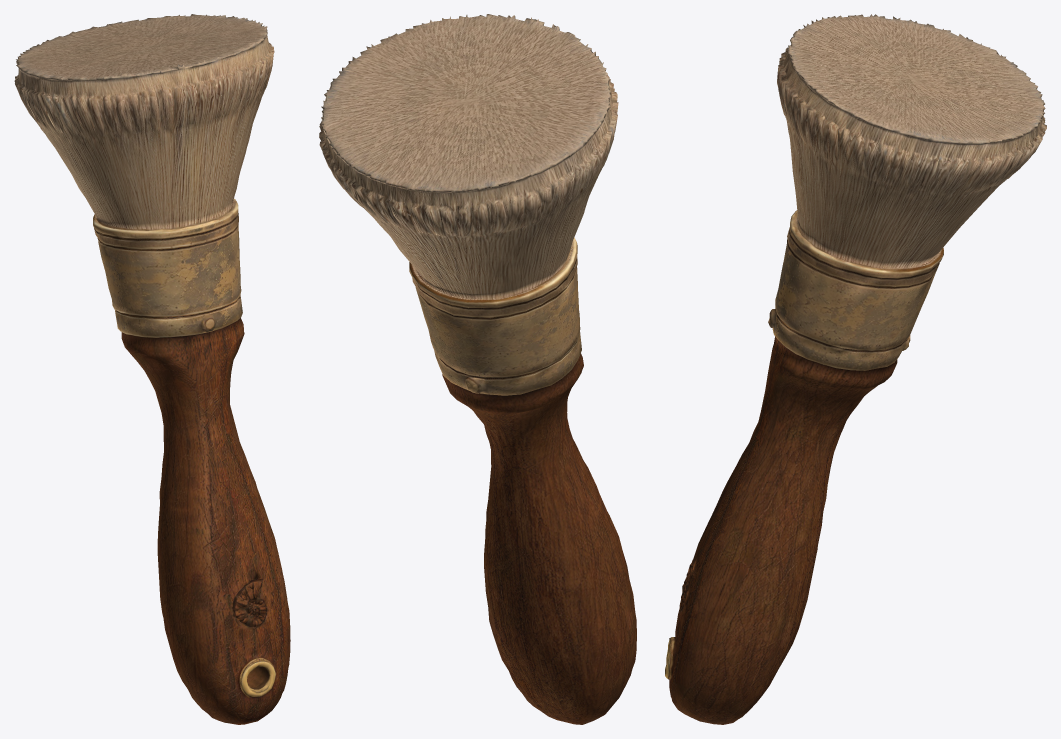
Rendered from brush_low.glb.
The picture shows the model from 3 angles, left to right: view 1: azimuth 30°, elevation 25°; view 2: azimuth 150°, elevation 25°; view 3: azimuth 270°, elevation 25°; orthographic projection. The views are drawn at different scales.
Visible parts, largest first — view 1: tripo_node_94e1031b-477b-4f75-9bb0-127885a83932; view 2: tripo_node_94e1031b-477b-4f75-9bb0-127885a83932; view 3: tripo_node_94e1031b-477b-4f75-9bb0-127885a83932.
Part boxes in pixels (x1,y1,x2,y2): tripo_node_94e1031b-477b-4f75-9bb0-127885a83932: (14,14,290,724); tripo_node_94e1031b-477b-4f75-9bb0-127885a83932: (319,14,636,724); tripo_node_94e1031b-477b-4f75-9bb0-127885a83932: (665,14,1046,724).
Size of the model in its own units: 0.3691 by 0.9773 by 0.503.
1 material, 1 textured.
